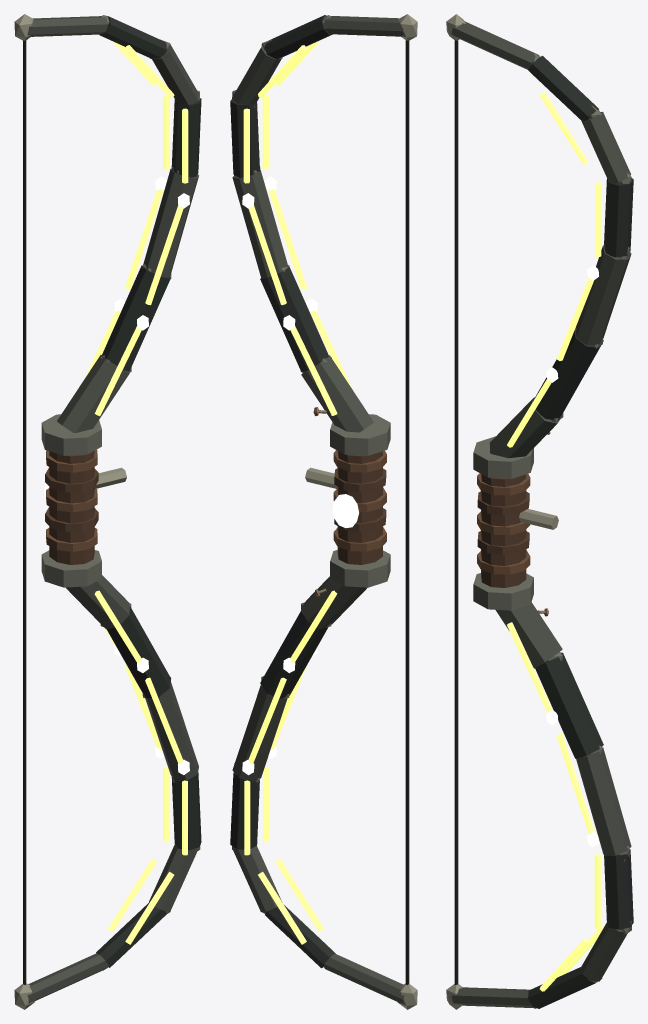
Rendered from SporePiercer.fbx.
3 views of the same model, side by side, from view 1: azimuth 30°, elevation 25°; view 2: azimuth 150°, elevation 25°; view 3: azimuth 330°, elevation 25° (orthographic).
Visible parts, largest first — view 1: Bow_String, Rounded_Grip, Upper_Segment_01, Upper_Segment_02, Upper_Segment_00, Lower_Segment_01, Lower_Segment_02, Grip_Collar_Upper, Lower_Segment_00, Upper_Segment_03, Lower_Segment_06, Grip_Collar_Lower (+25 smaller); view 2: Bow_String, Upper_Segment_01, Rounded_Grip, Upper_Segment_02, Upper_Segment_00, Lower_Segment_01, Lower_Segment_02, Grip_Collar_Upper, Upper_Segment_03, Lower_Segment_03, Lower_Segment_00, Lower_Segment_06 (+24 smaller); view 3: Bow_String, Lower_Segment_01, Lower_Segment_02, Rounded_Grip, Upper_Segment_02, Upper_Segment_01, Lower_Segment_03, Upper_Segment_03, Lower_Segment_00, Upper_Segment_00, Upper_Segment_04, Upper_Segment_05 (+20 smaller).
Boxes of the visible parts, bbox=[...] form: Bow_String: bbox=[23, 40, 26, 984]; Rounded_Grip: bbox=[49, 451, 94, 564]; Upper_Segment_01: bbox=[102, 265, 170, 371]; Upper_Segment_02: bbox=[143, 168, 198, 277]; Upper_Segment_00: bbox=[57, 355, 129, 432]; Lower_Segment_01: bbox=[107, 606, 170, 698]; Lower_Segment_02: bbox=[145, 682, 198, 780]; Grip_Collar_Upper: bbox=[41, 414, 101, 455]; Lower_Segment_00: bbox=[66, 575, 129, 629]; Upper_Segment_03: bbox=[171, 98, 201, 177]; Lower_Segment_06: bbox=[27, 953, 108, 1002]; Grip_Collar_Lower: bbox=[41, 550, 101, 587]; Bow_String: bbox=[405, 40, 409, 984]; Upper_Segment_01: bbox=[260, 267, 328, 371]; Rounded_Grip: bbox=[337, 451, 382, 564]; Upper_Segment_02: bbox=[232, 170, 288, 277]; Upper_Segment_00: bbox=[301, 355, 373, 432]; Lower_Segment_01: bbox=[260, 610, 327, 698]; Lower_Segment_02: bbox=[232, 685, 287, 781]; Grip_Collar_Upper: bbox=[330, 414, 390, 455]; Upper_Segment_03: bbox=[230, 99, 259, 177]; Lower_Segment_03: bbox=[230, 772, 259, 849]; Lower_Segment_00: bbox=[301, 576, 367, 629]; Lower_Segment_06: bbox=[324, 953, 404, 1002]; Bow_String: bbox=[454, 40, 458, 984]; Lower_Segment_01: bbox=[535, 652, 603, 758]; Lower_Segment_02: bbox=[576, 747, 631, 856]; Rounded_Grip: bbox=[481, 474, 526, 587]; Upper_Segment_02: bbox=[575, 245, 631, 344]; Upper_Segment_01: bbox=[534, 331, 603, 419]; Lower_Segment_03: bbox=[604, 849, 633, 929]; Upper_Segment_03: bbox=[604, 178, 633, 257]; Lower_Segment_00: bbox=[495, 602, 562, 668]; Upper_Segment_00: bbox=[489, 397, 559, 458]; Upper_Segment_04: bbox=[581, 111, 630, 183]; Upper_Segment_05: bbox=[528, 55, 598, 121].
Size of the model in its own units: 29.37 by 151 by 9.6.
